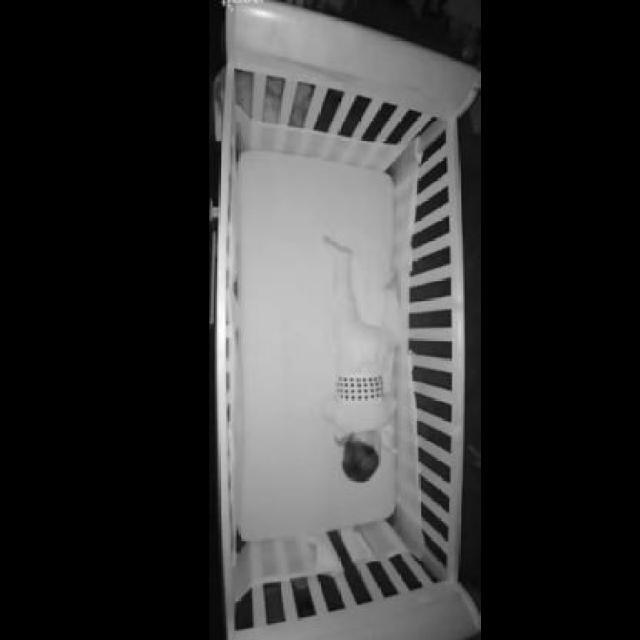baby: (322, 236, 404, 484)
